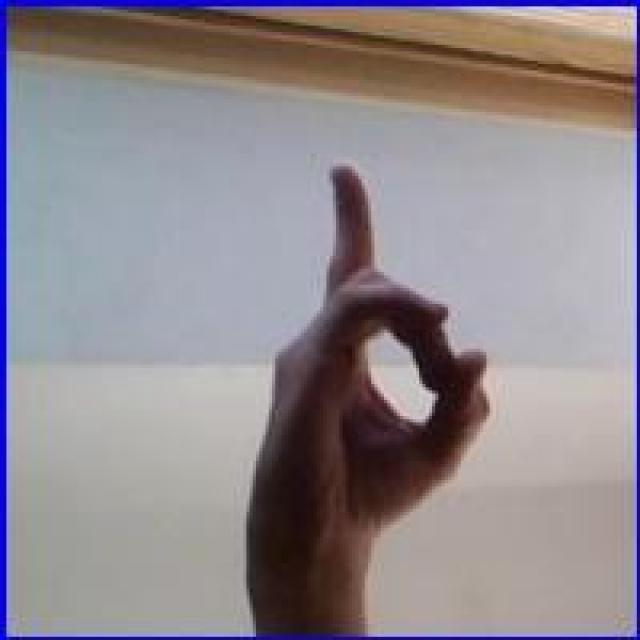D: (253, 158, 499, 600)
